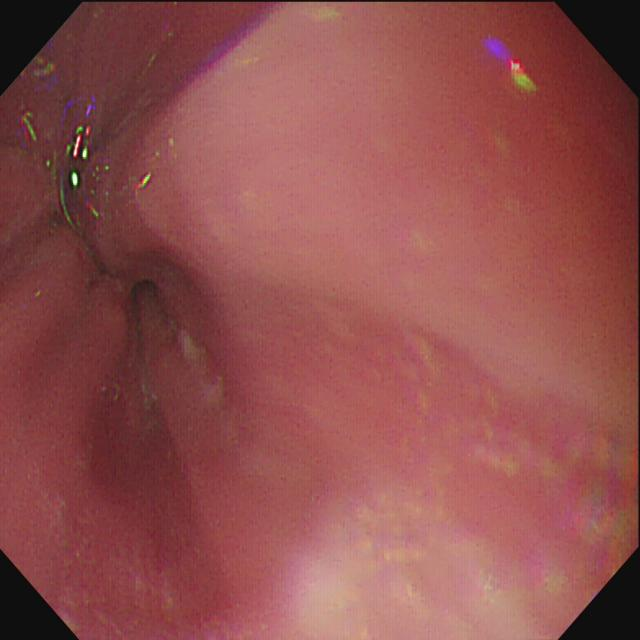J: (178, 332, 206, 370)
U: (483, 39, 538, 96), (66, 125, 93, 161)
